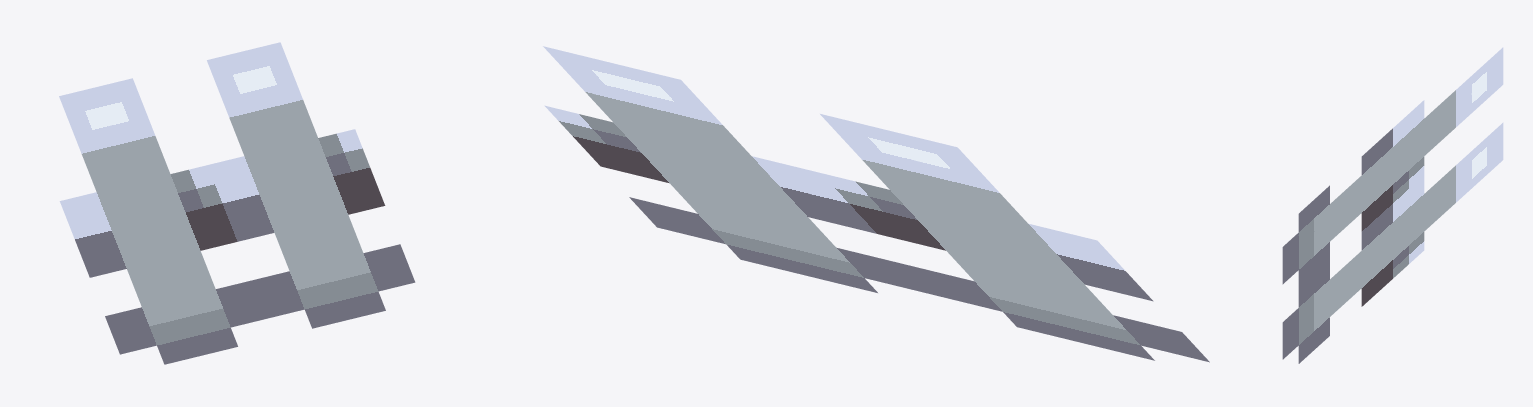
3 views of the same model, side by side, from view 1: azimuth 30°, elevation 25°; view 2: azimuth 150°, elevation 25°; view 3: azimuth 270°, elevation 25° (orthographic). The views are drawn at different scales.
Bounding box in the file's own units: 1 × 0.707 × 0.707.
Materials: 1 (1 with a texture image).
